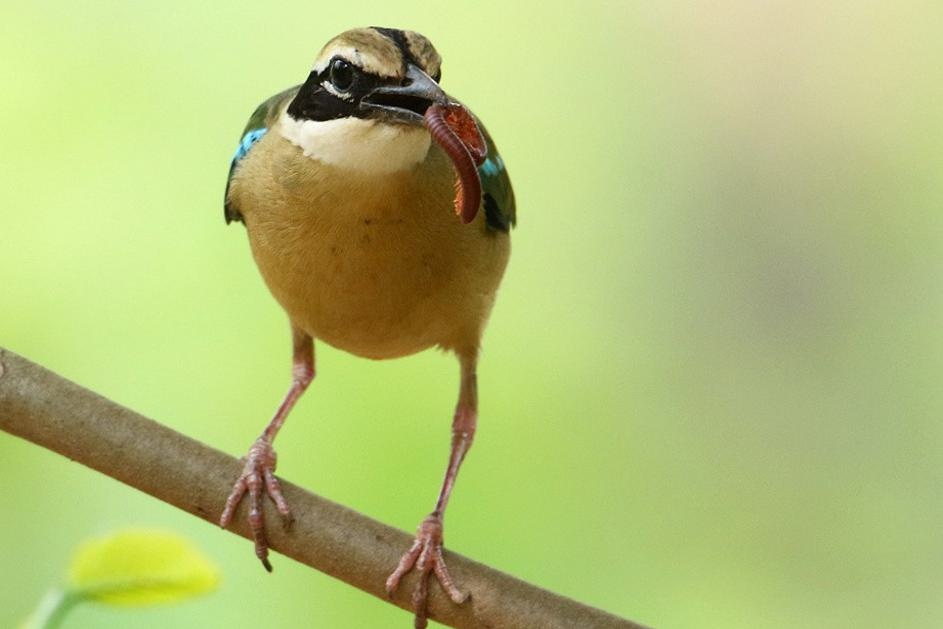pitta: (230, 15, 503, 599)
